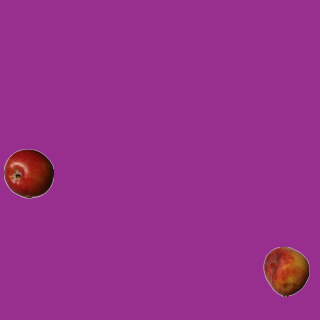Apple Braeburn: (3, 148, 53, 198)
Peach: (261, 246, 311, 296)
